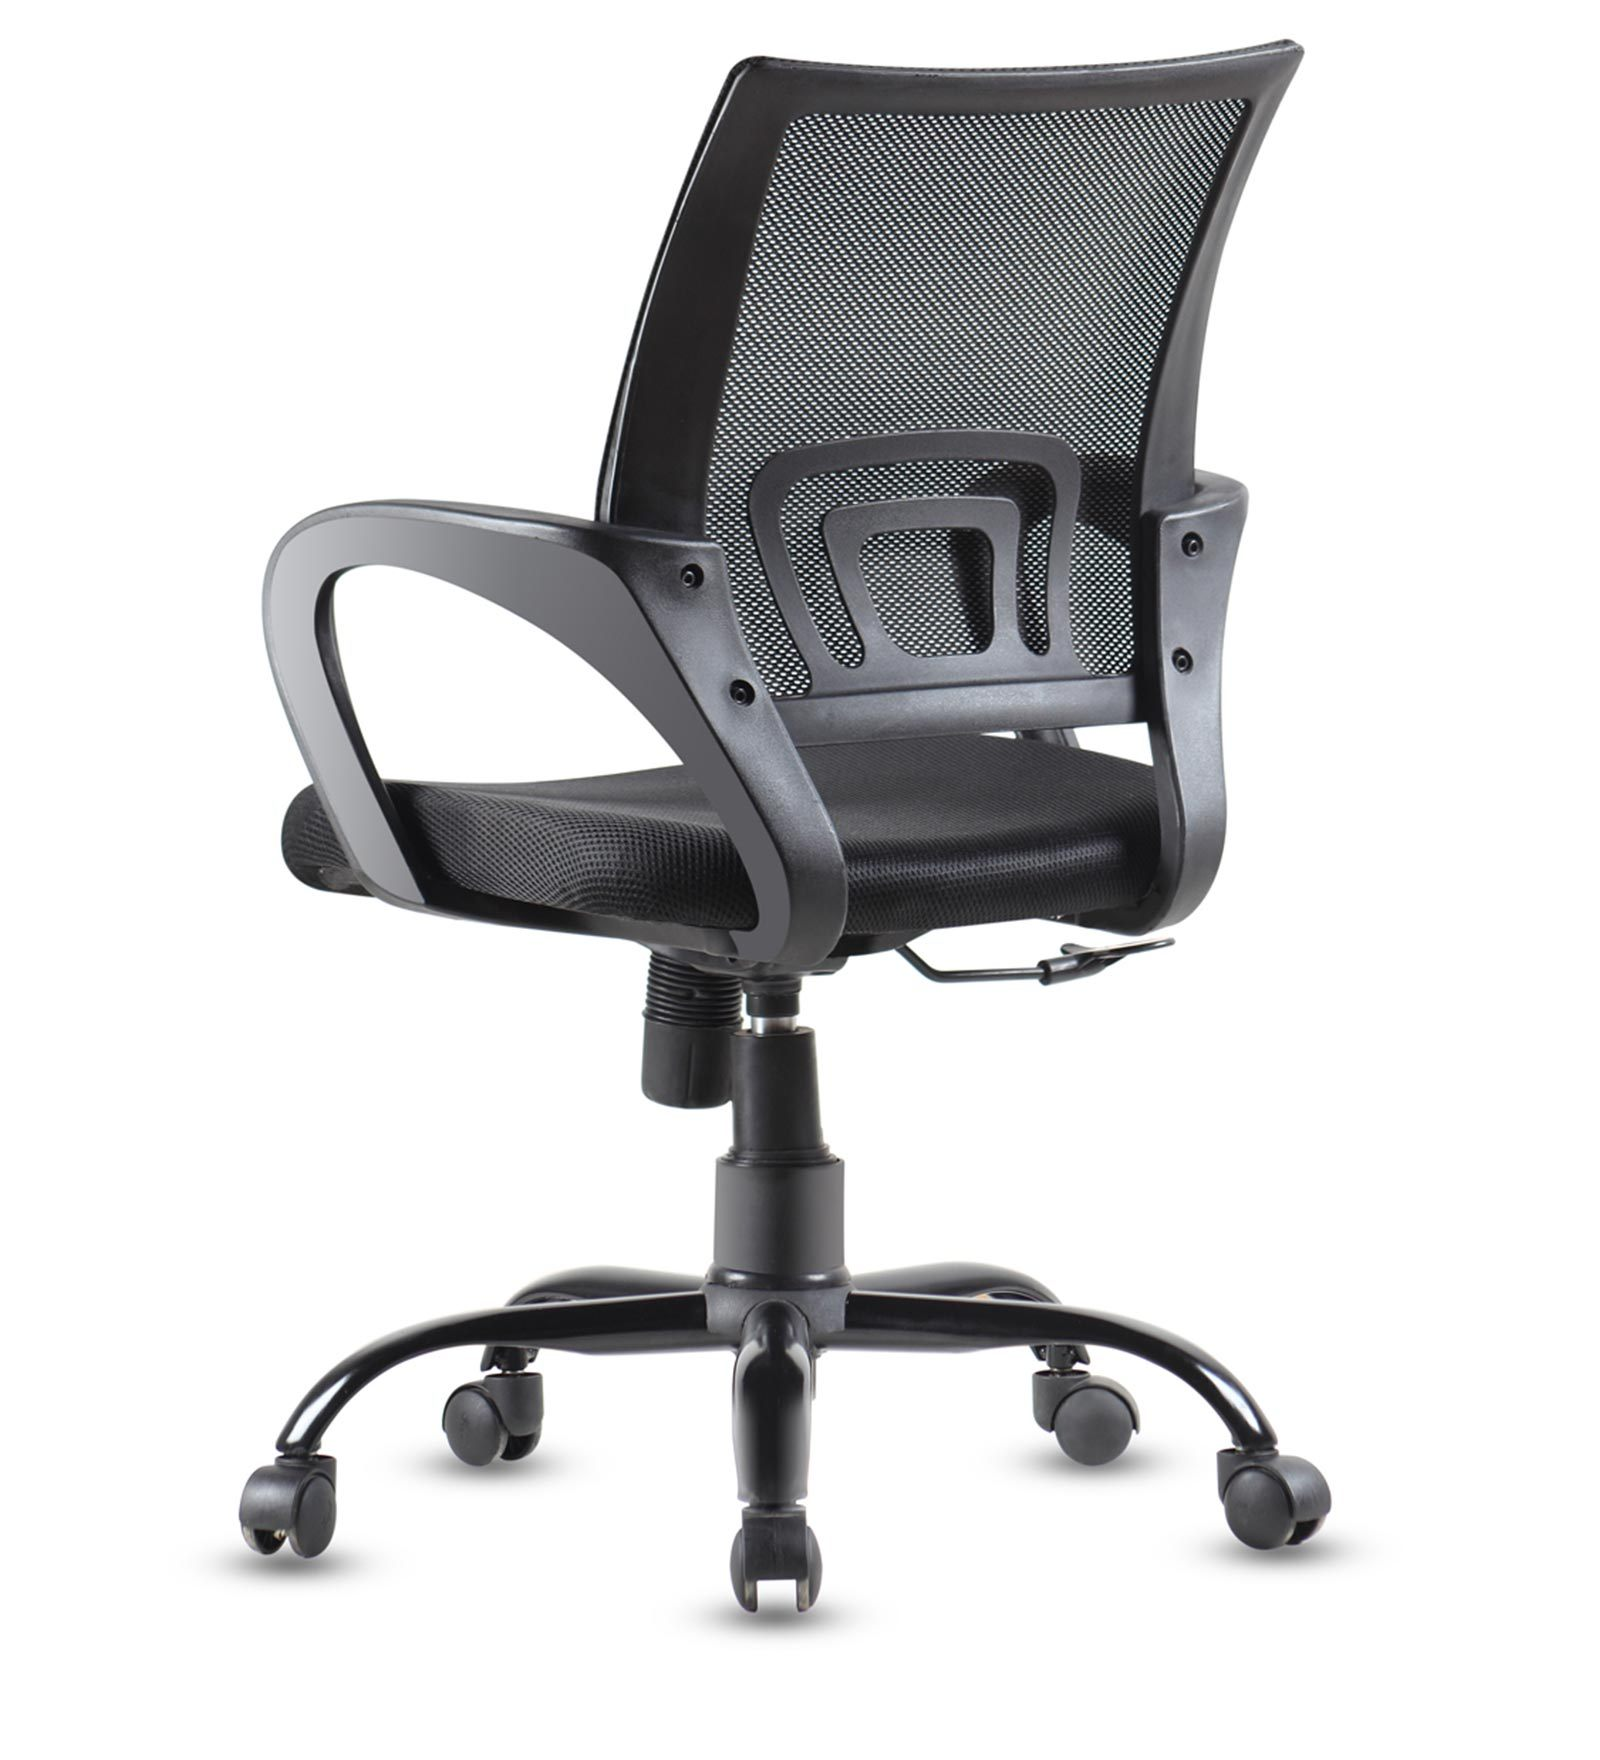Swing Ergonomic Chair in Black Colour by VOF: (162, 34, 1441, 1622)
